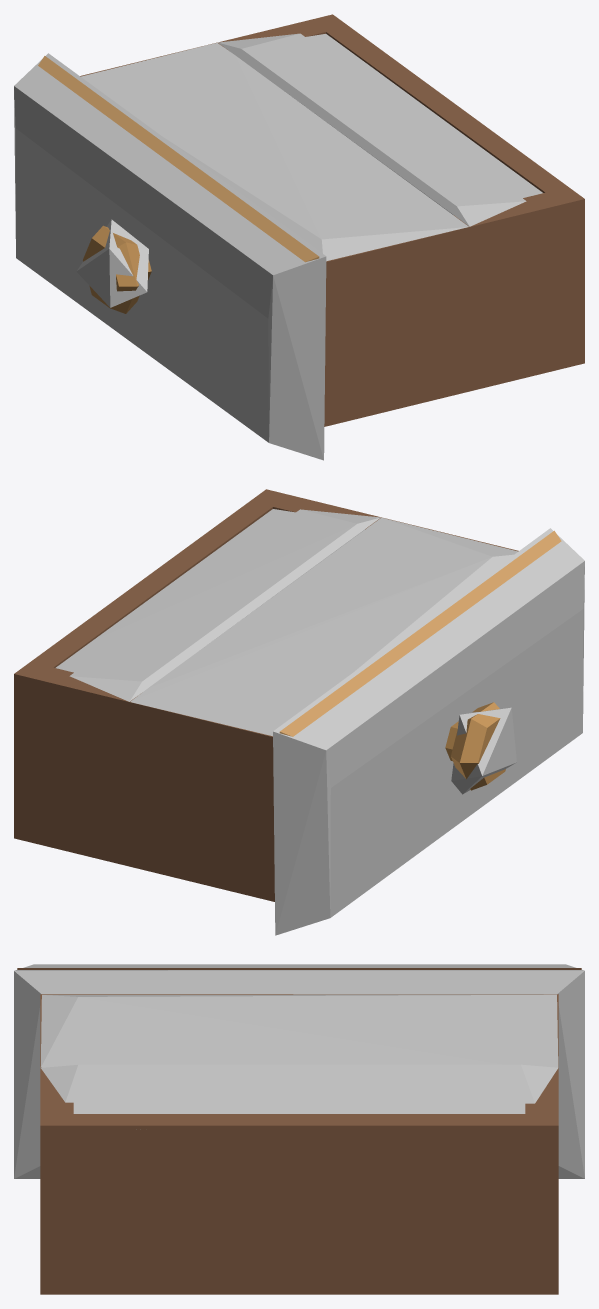
Rendered from SM_Prop_Desk_02_Drawer_03.fbx.
3 renders of one model, top to bottom at view 1: azimuth 30°, elevation 25°; view 2: azimuth 150°, elevation 25°; view 3: azimuth 270°, elevation 25°, orthographic. The views are drawn at different scales.
Parts seen in each view (by area): view 1: SM_Prop_Desk_02_Drawer_03_ConvexHulls, SM_Prop_Desk_02_Drawer_03; view 2: SM_Prop_Desk_02_Drawer_03_ConvexHulls, SM_Prop_Desk_02_Drawer_03; view 3: SM_Prop_Desk_02_Drawer_03, SM_Prop_Desk_02_Drawer_03_ConvexHulls.
Part boxes in pixels (<box>): SM_Prop_Desk_02_Drawer_03_ConvexHulls: <box>14,33,542,460</box>; SM_Prop_Desk_02_Drawer_03: <box>38,14,584,426</box>; SM_Prop_Desk_02_Drawer_03_ConvexHulls: <box>56,509,584,935</box>; SM_Prop_Desk_02_Drawer_03: <box>14,489,561,901</box>; SM_Prop_Desk_02_Drawer_03: <box>17,968,581,1294</box>; SM_Prop_Desk_02_Drawer_03_ConvexHulls: <box>14,964,584,1178</box>.
Bounding box in the file's own units: 33.24 × 44.1 × 17.84.
2 materials, 1 textured.
